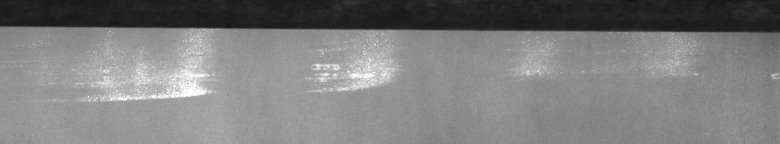kb: (4, 4, 776, 108)
